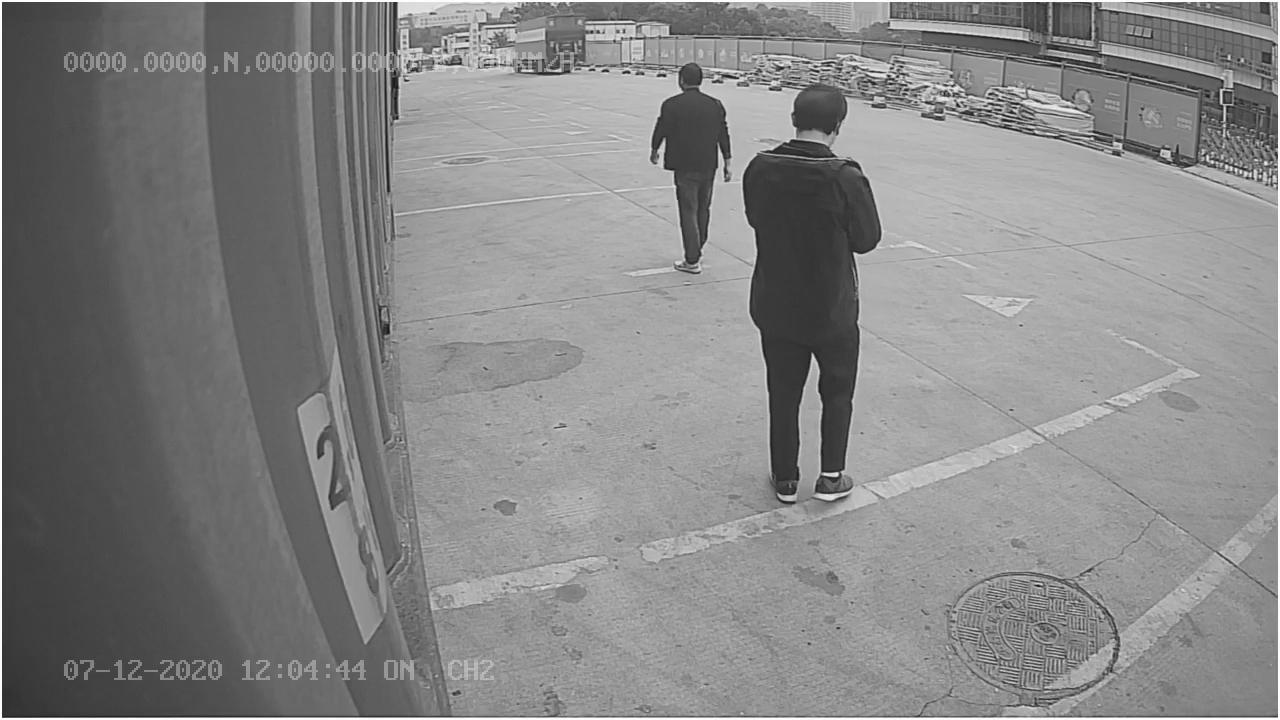person: (742, 81, 884, 506), (648, 57, 733, 274)
